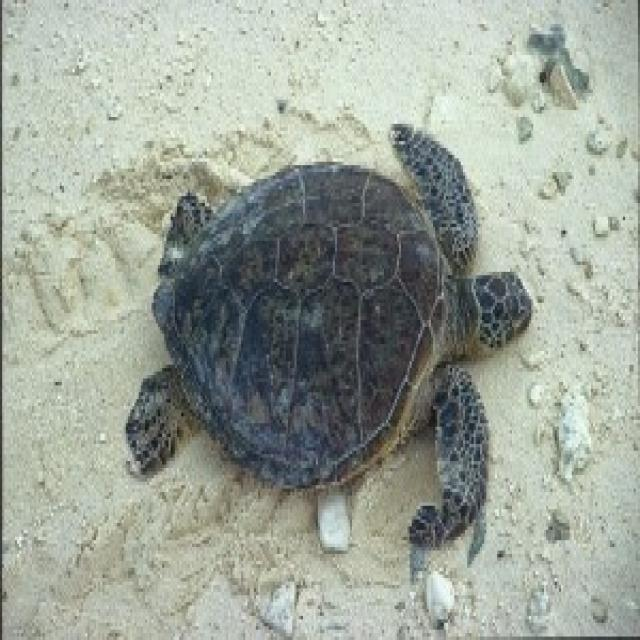Sea turtle: (113, 118, 550, 558)
